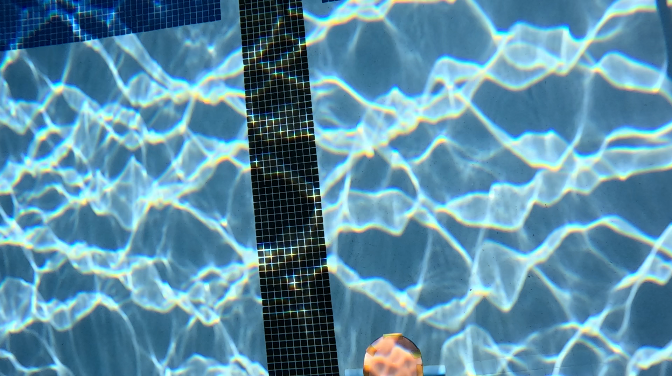pathmarker: (363, 332, 422, 374)
